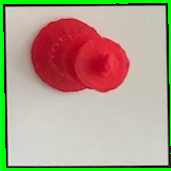Red King: (30, 16, 133, 101)
